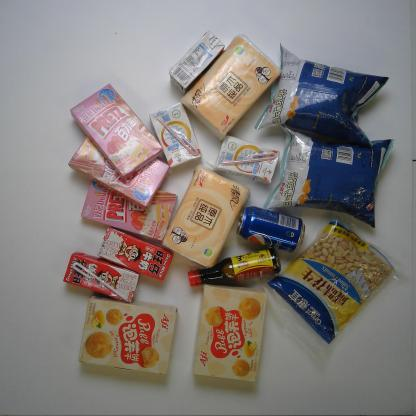Dessert: (67, 80, 166, 180), (74, 290, 180, 378), (190, 280, 272, 390), (64, 129, 171, 207), (75, 171, 179, 245)
Dried Fruit: (265, 213, 410, 347)
Drink: (232, 195, 308, 256)
Milk: (96, 222, 174, 285), (60, 249, 145, 305), (214, 127, 283, 188), (145, 101, 206, 169), (168, 26, 227, 94)
Puffed Food: (252, 40, 390, 154), (262, 123, 399, 232)
Seasoner: (182, 249, 290, 290)
Tissue: (177, 34, 283, 142), (158, 161, 256, 271)
